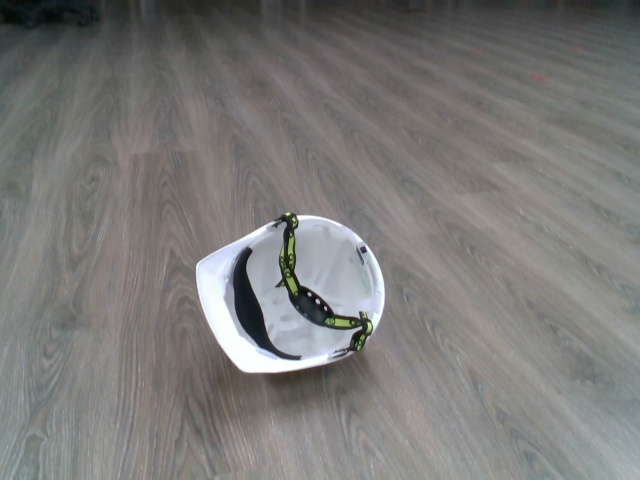helmet: (188, 207, 391, 385)
